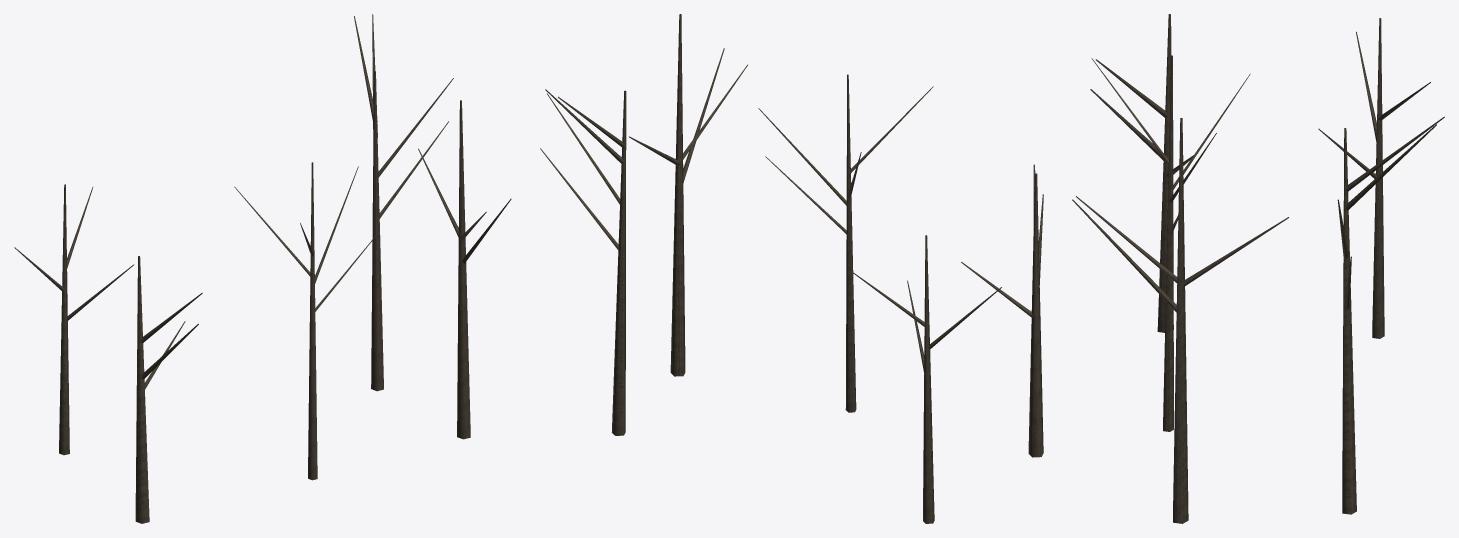
Rendered from S7U_FarTreeRow_20m_A.fbx.
The picture shows the model from 3 angles, left to right: view 1: azimuth 30°, elevation 25°; view 2: azimuth 150°, elevation 25°; view 3: azimuth 270°, elevation 25°; orthographic projection. The views are drawn at different scales.
Parts seen in each view (by area): view 1: S7U_FarTreeRow_20m_A; view 2: S7U_FarTreeRow_20m_A; view 3: S7U_FarTreeRow_20m_A.
Part boxes in pixels (bbox=[...]): S7U_FarTreeRow_20m_A: bbox=[14, 14, 511, 523]; S7U_FarTreeRow_20m_A: bbox=[540, 14, 1043, 523]; S7U_FarTreeRow_20m_A: bbox=[1072, 14, 1444, 523].
Size of the model in its own units: 19.11 by 14.34 by 11.95.
